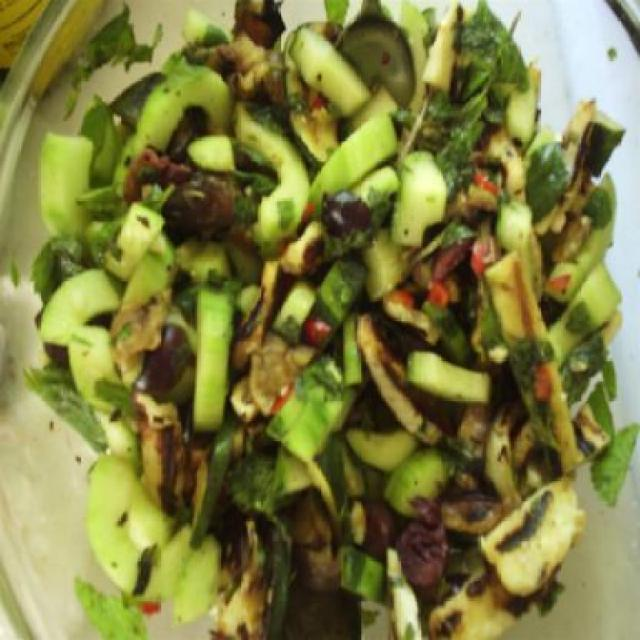Zucchini: (11, 0, 634, 631), (231, 97, 307, 248)
